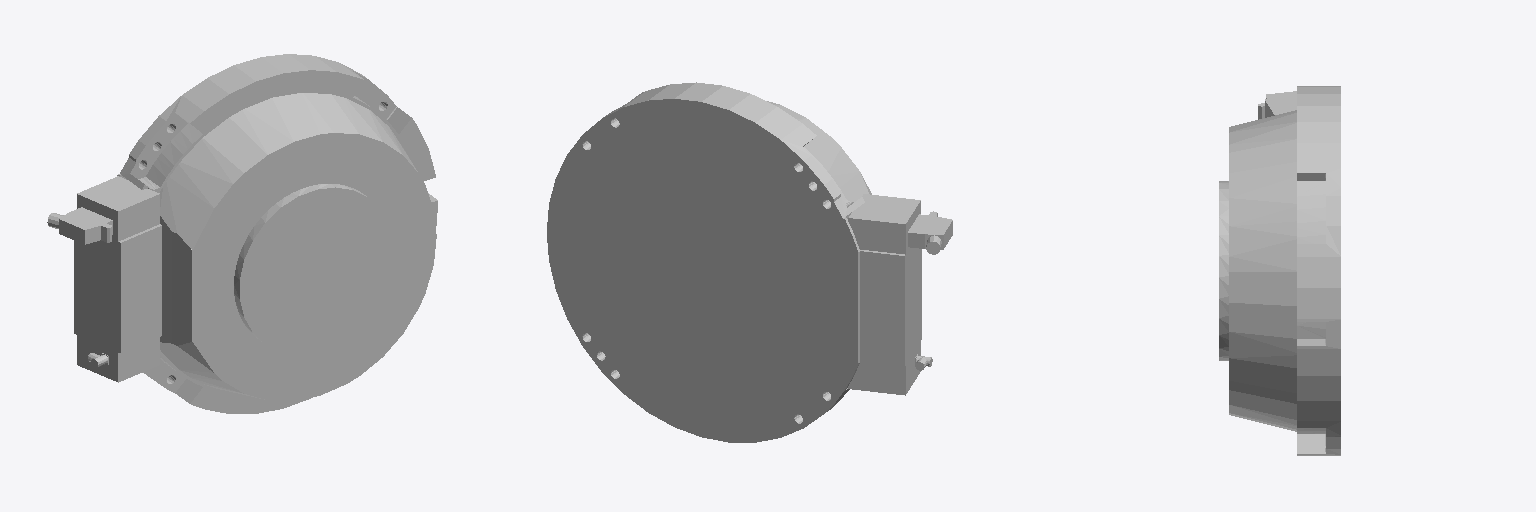
File: worldBody___collisions___mesh.obj
3 views of the same model, side by side, from view 1: azimuth 30°, elevation 25°; view 2: azimuth 150°, elevation 25°; view 3: azimuth 270°, elevation 25° (orthographic).
Bounding box in the file's own units: 1.19 × 0.9994 × 0.331.